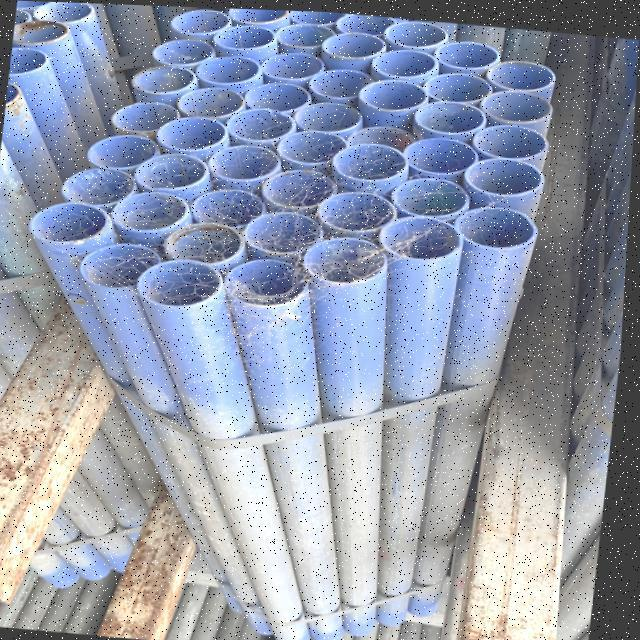pipe: (443, 193, 548, 265), (462, 150, 545, 208), (137, 257, 228, 307), (300, 230, 386, 282), (86, 243, 170, 292), (382, 213, 464, 260), (245, 214, 327, 261), (315, 189, 395, 236), (113, 189, 189, 237), (60, 166, 146, 207), (35, 200, 111, 245), (164, 220, 243, 263), (336, 138, 411, 183), (229, 257, 300, 304), (391, 175, 468, 218), (402, 135, 480, 176), (192, 192, 268, 234), (262, 171, 340, 211), (470, 120, 549, 159), (88, 138, 171, 174), (134, 151, 208, 190), (281, 133, 354, 170), (307, 71, 386, 105), (155, 114, 227, 151), (360, 80, 430, 118), (209, 149, 279, 187), (226, 109, 296, 147), (412, 98, 485, 134), (317, 33, 404, 63), (110, 103, 187, 136), (422, 69, 495, 103), (479, 88, 551, 121), (175, 83, 248, 115), (485, 57, 553, 89), (439, 42, 504, 75), (196, 52, 259, 86), (245, 84, 311, 115), (133, 65, 196, 97), (211, 21, 274, 52), (372, 51, 437, 81), (297, 105, 365, 133), (155, 38, 219, 67), (265, 53, 326, 82), (13, 18, 73, 46), (351, 127, 416, 152), (169, 11, 229, 38), (31, 2, 95, 26), (330, 11, 393, 35), (388, 23, 449, 47), (279, 24, 337, 49), (226, 7, 293, 26), (10, 48, 54, 74), (290, 9, 341, 24), (6, 82, 26, 108), (16, 0, 55, 6)
